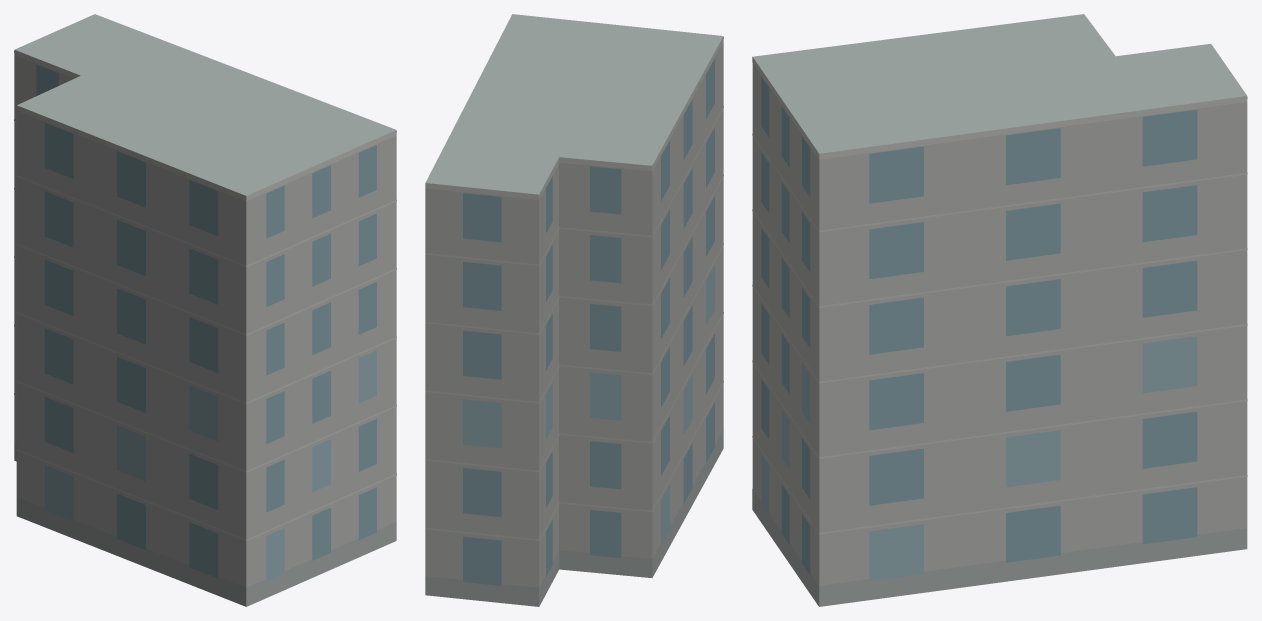
The model's file is survey-upis-32764296.glb.
3 renders of one model, left to right at view 1: azimuth 30°, elevation 25°; view 2: azimuth 150°, elevation 25°; view 3: azimuth 270°, elevation 25°, orthographic. The views are drawn at different scales.
Parts seen in each view (by area): view 1: survey-upis-32764296.tmp; view 2: survey-upis-32764296.tmp; view 3: survey-upis-32764296.tmp.
Boxes of the visible parts, <box> form: survey-upis-32764296.tmp: <box>14,14,396,606</box>; survey-upis-32764296.tmp: <box>425,14,723,606</box>; survey-upis-32764296.tmp: <box>752,14,1247,606</box>.
Size of the model in its own units: 12.23 by 18.45 by 18.28.
